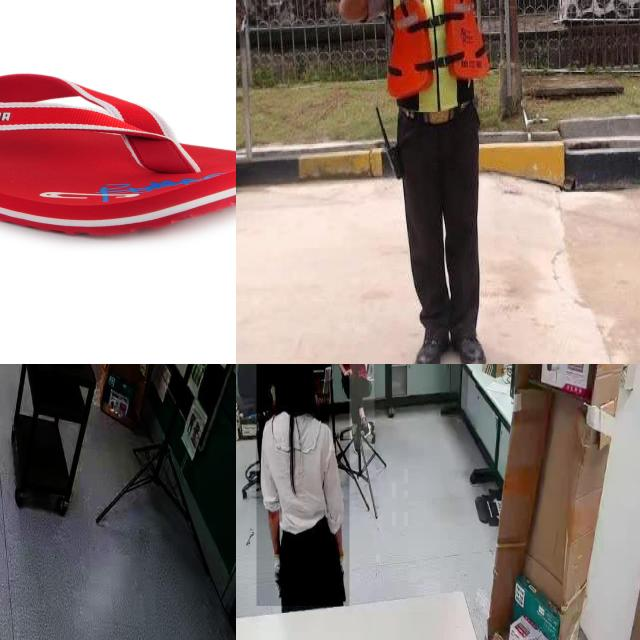Sandals: (0, 69, 236, 241)
boots: (407, 321, 454, 364), (455, 324, 498, 364)
hand_noglove: (343, 366, 353, 376)
person: (310, 0, 543, 364), (256, 364, 349, 606), (329, 364, 375, 450)
shoes: (359, 414, 372, 440)
vest: (382, 0, 494, 118)
